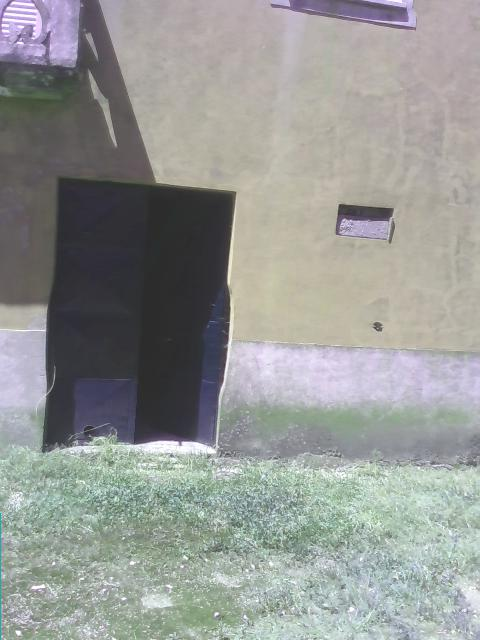semi_door: (40, 174, 237, 455)
